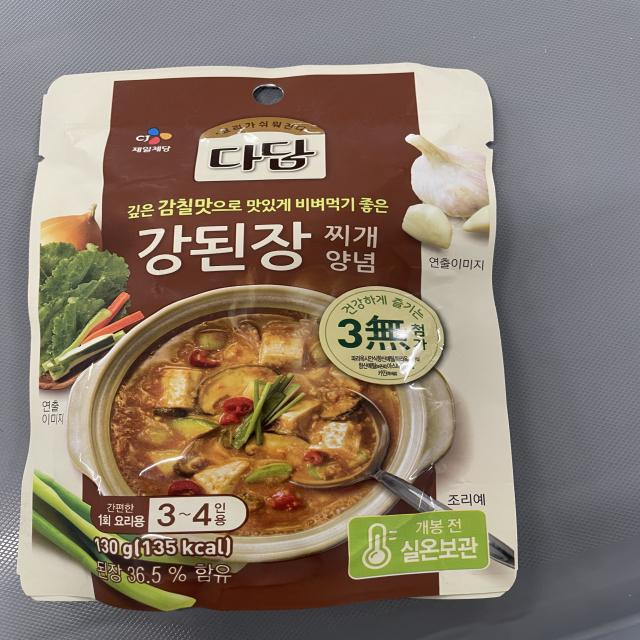object_name: (45, 76, 496, 602)
